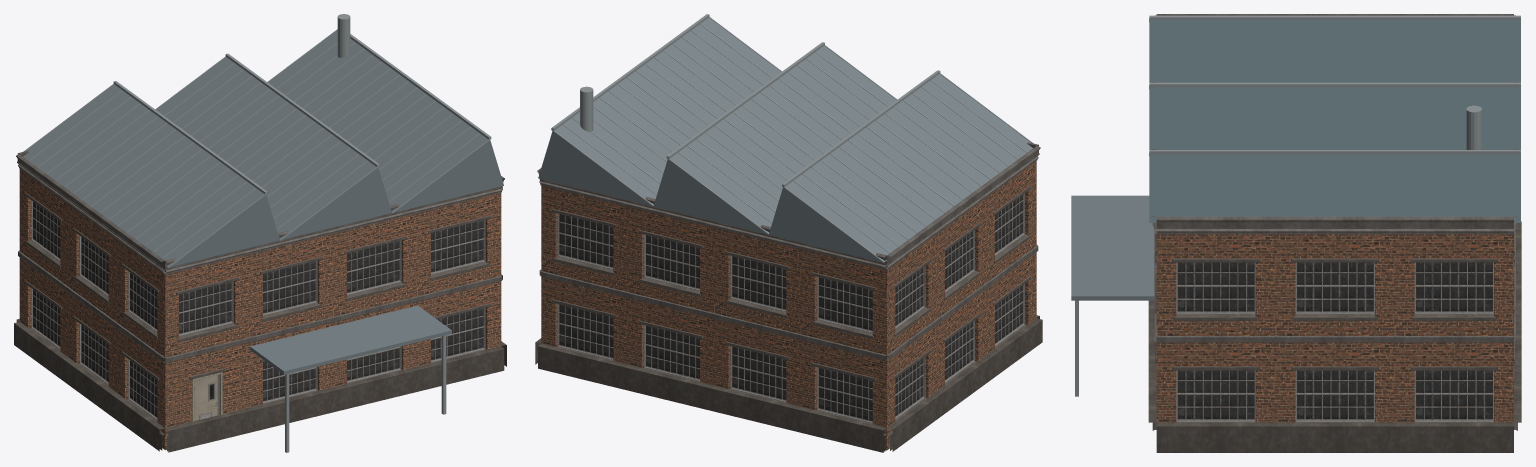
The model's file is coastal-factory.glb.
3 renders of one model, left to right at view 1: azimuth 30°, elevation 25°; view 2: azimuth 150°, elevation 25°; view 3: azimuth 270°, elevation 25°, orthographic. The views are drawn at different scales.
Visible parts, largest first — view 1: Coastal Factory; view 2: Coastal Factory; view 3: Coastal Factory.
Part boxes in pixels (x1,y1,x2,y2): Coastal Factory: [14, 14, 506, 452]; Coastal Factory: [535, 14, 1042, 452]; Coastal Factory: [1071, 14, 1521, 452].
Bounding box in the file's own units: 12.4 × 9 × 11.35.
Materials: 10 (6 with a texture image).
